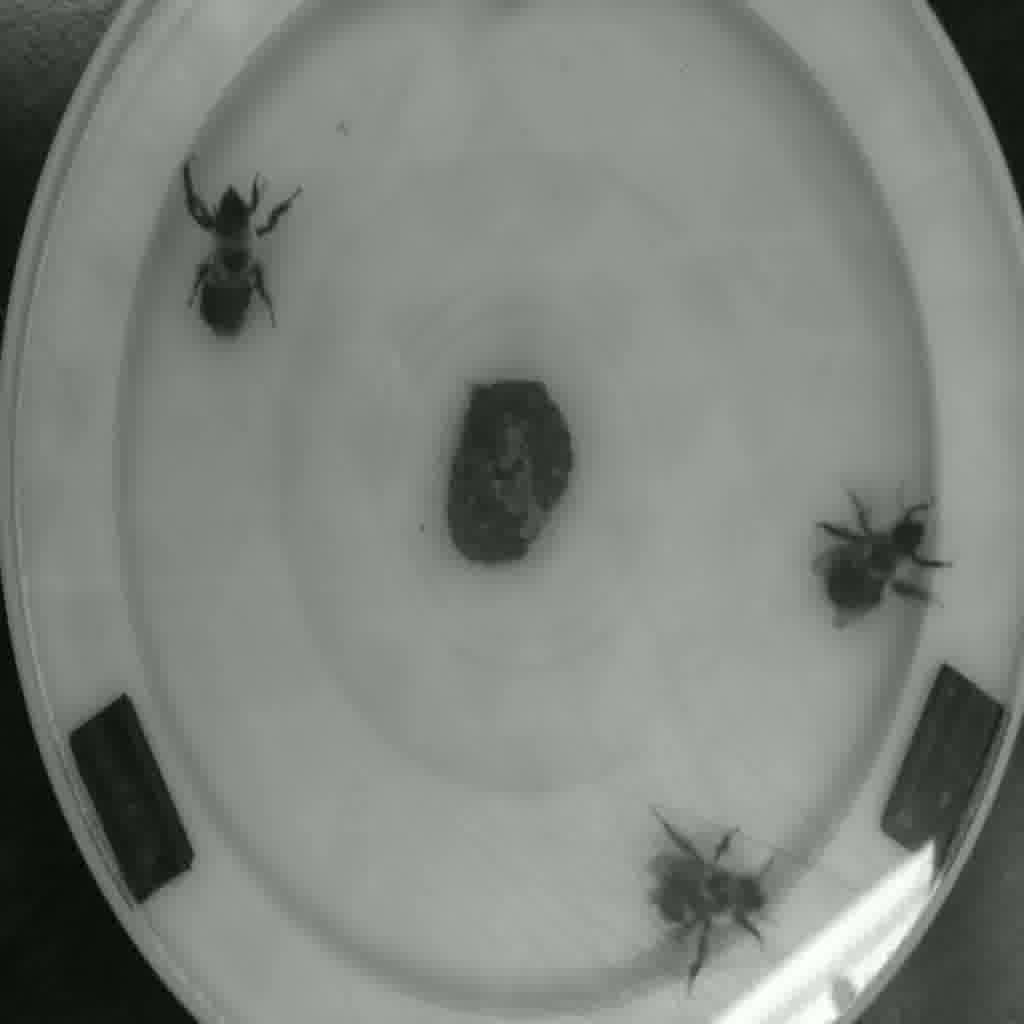bee: (165, 155, 327, 353), (628, 800, 793, 977), (813, 471, 951, 647)
